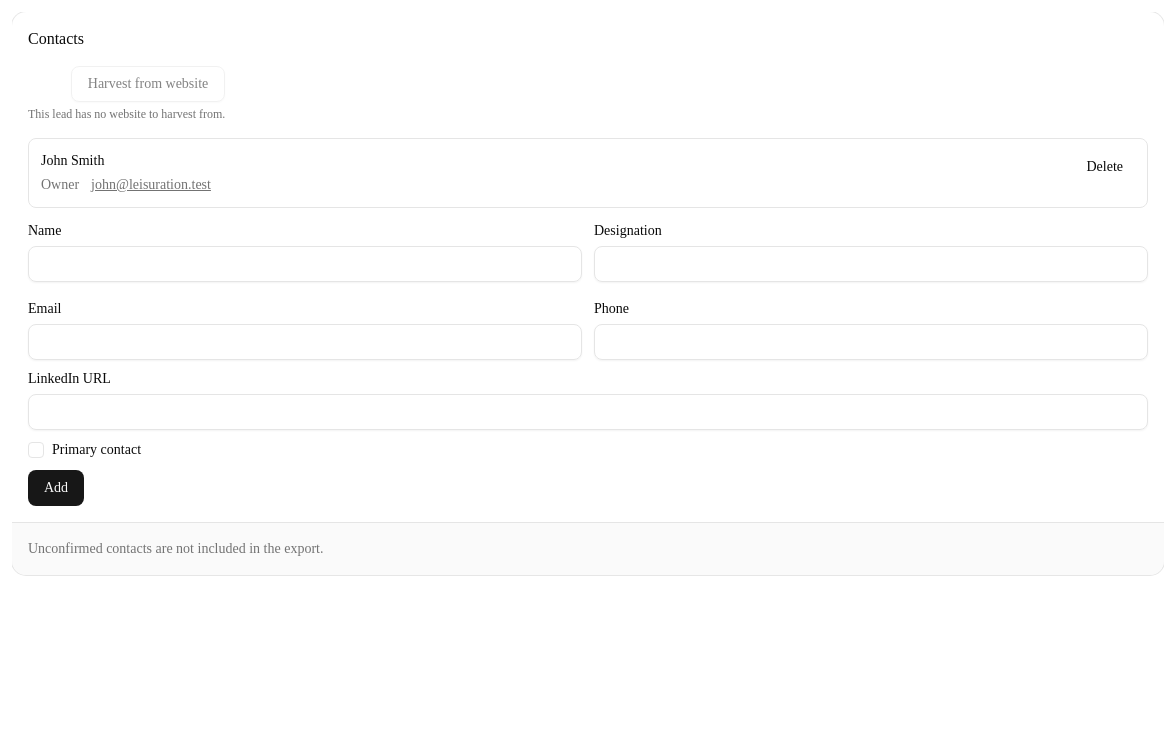
Test: shows a visible alert when deleting a contact fails
The width and height of the screenshot is (1164, 732).
Click the button "Delete" at (1105, 167), box [1074,151,1135,183]
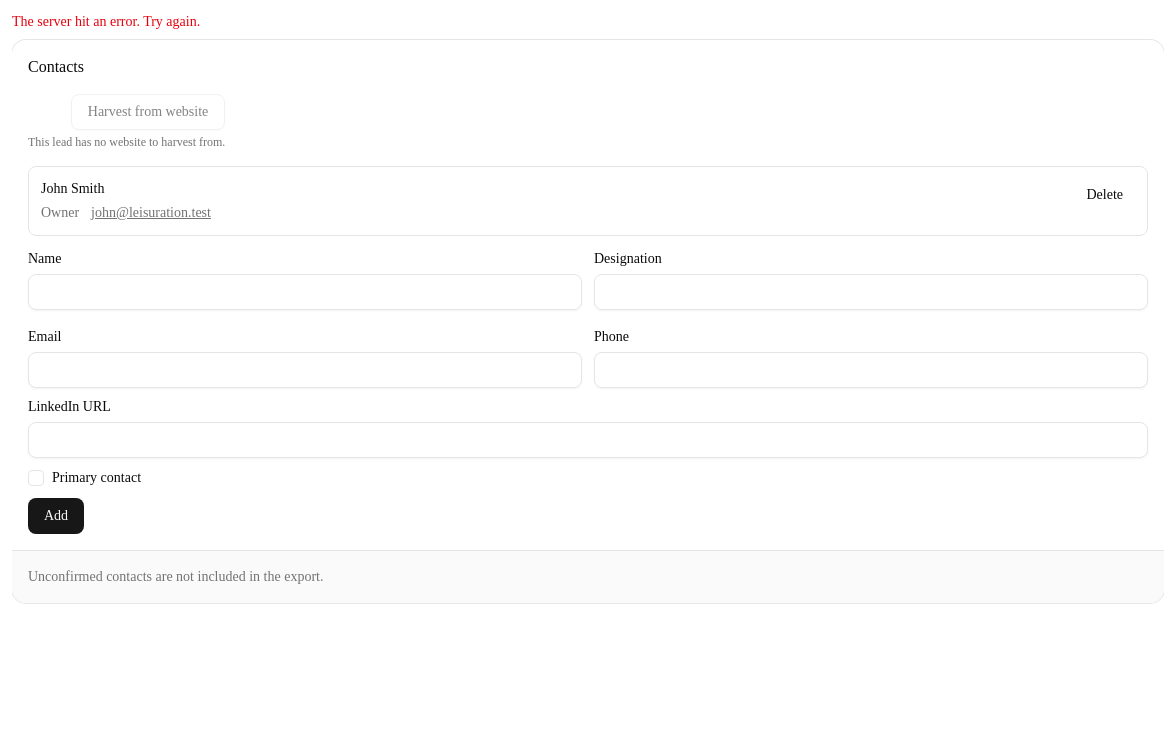
Now the message reads "The server hit an error. Try again.", box [12,14,200,29]
